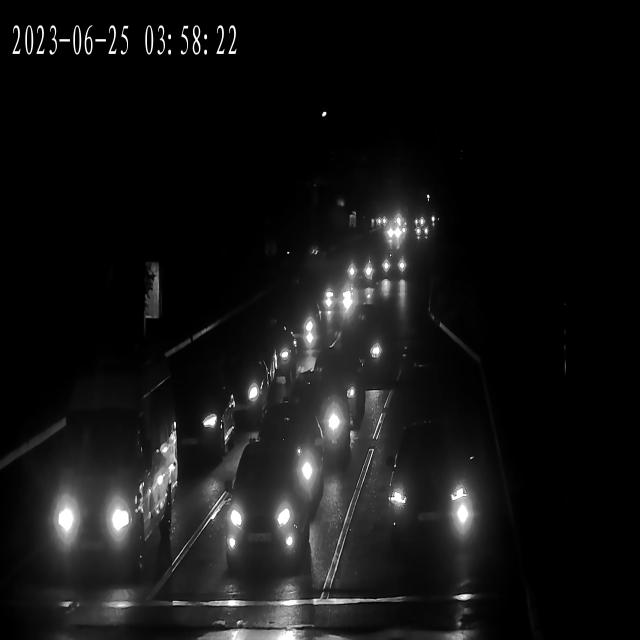Car: (21, 409, 171, 581), (216, 447, 322, 578), (377, 431, 483, 544), (156, 369, 239, 465), (286, 372, 361, 459), (194, 356, 272, 426), (239, 331, 301, 391), (268, 302, 324, 354), (323, 278, 360, 316), (342, 256, 376, 286), (380, 251, 407, 279), (380, 255, 406, 284), (381, 226, 403, 242), (383, 228, 404, 244), (412, 225, 431, 238), (413, 228, 431, 240)
